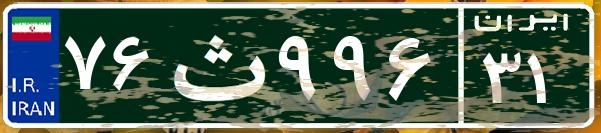1: (525, 38, 570, 115)
3: (475, 38, 525, 113)
6: (385, 28, 445, 110), (110, 28, 158, 105)
7: (57, 26, 110, 107)
9: (273, 28, 330, 110), (330, 28, 385, 110)
ث: (158, 15, 273, 115)
